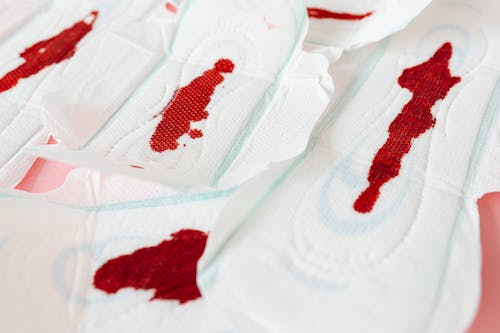blood: (350, 40, 462, 215), (89, 226, 209, 307), (147, 55, 237, 155), (0, 8, 100, 95), (306, 5, 377, 22)
